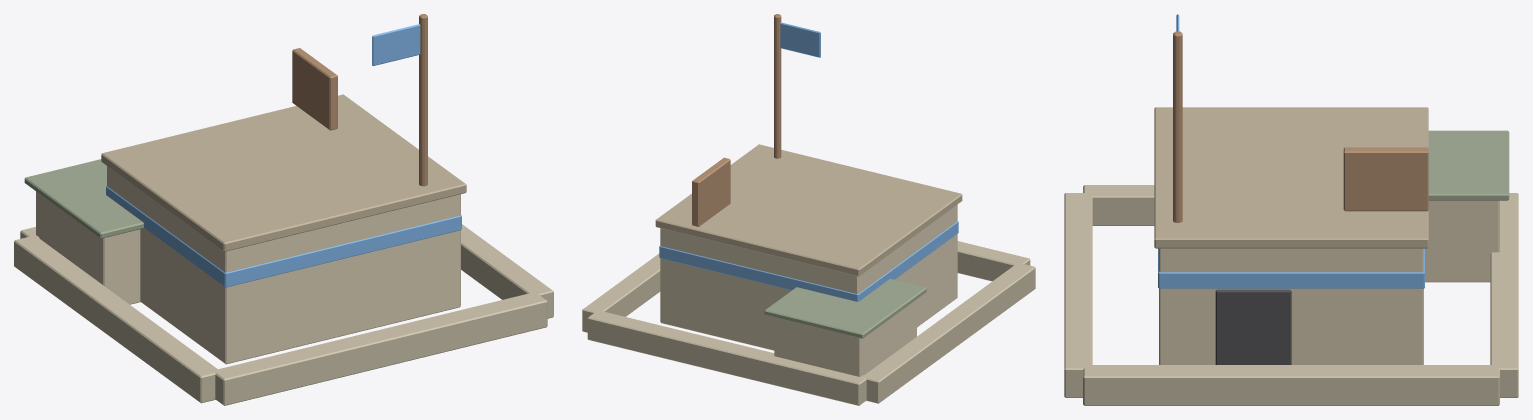
Rendered from command_cell.glb.
3 renders of one model, left to right at view 1: azimuth 30°, elevation 25°; view 2: azimuth 150°, elevation 25°; view 3: azimuth 270°, elevation 25°, orthographic. The views are drawn at different scales.
Visible parts, largest first — view 1: command_cell; view 2: command_cell; view 3: command_cell.
Boxes of the visible parts, bbox=[...] form: command_cell: bbox=[14, 14, 553, 405]; command_cell: bbox=[582, 14, 1035, 405]; command_cell: bbox=[1064, 14, 1518, 405].
Bounding box in the file's own units: 4.8 × 3.8 × 4.8.
